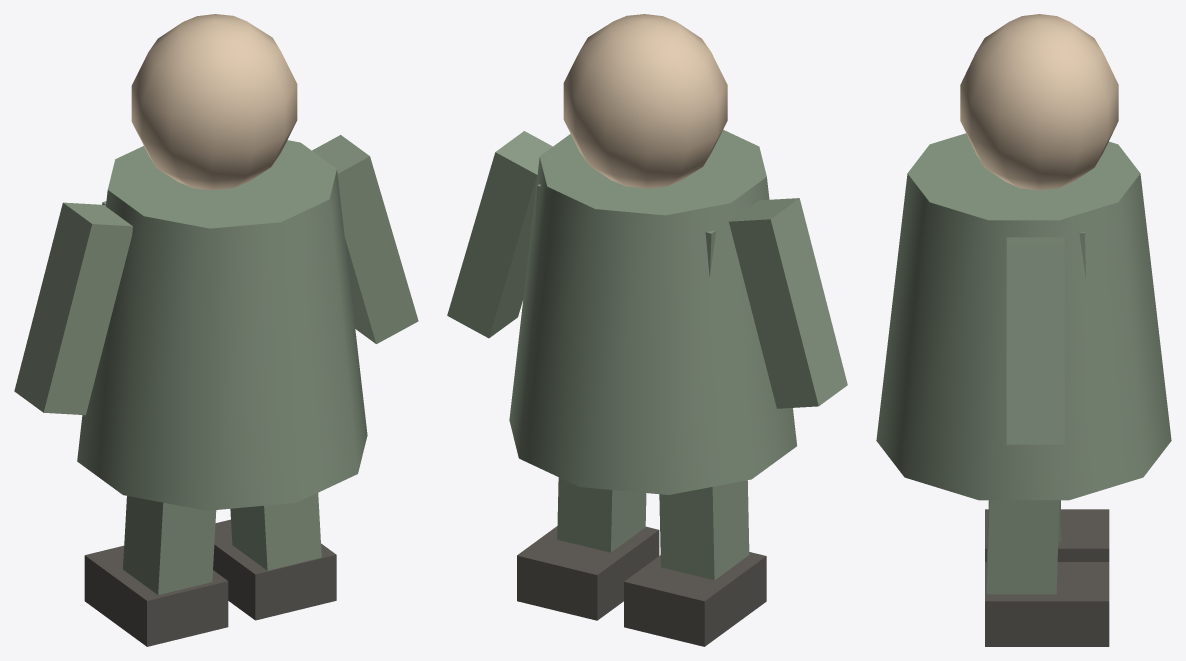
File: npc_klim_guard.glb
3 views of the same model, side by side, from view 1: azimuth 30°, elevation 25°; view 2: azimuth 150°, elevation 25°; view 3: azimuth 270°, elevation 25° (orthographic).
Visible parts, largest first — view 1: torso, head, left_arm, right_arm, left_boot, left_leg, right_boot, right_leg; view 2: torso, head, left_arm, right_arm, left_boot, right_boot, left_leg, right_leg; view 3: torso, head, right_arm, right_boot, right_leg, left_boot.
Boxes of the visible parts, x1=… form: torso: x1=77, y1=140, x2=367, y2=510; head: x1=131, y1=14, x2=297, y2=190; left_arm: x1=14, y1=202, x2=132, y2=415; right_arm: x1=312, y1=135, x2=418, y2=343; left_boot: x1=84, y1=545, x2=228, y2=646; left_leg: x1=123, y1=496, x2=216, y2=594; right_boot: x1=213, y1=519, x2=336, y2=620; right_leg: x1=230, y1=493, x2=321, y2=570; torso: x1=509, y1=129, x2=796, y2=494; head: x1=563, y1=14, x2=727, y2=188; left_arm: x1=729, y1=198, x2=847, y2=408; right_arm: x1=447, y1=131, x2=552, y2=338; left_boot: x1=624, y1=552, x2=766, y2=646; right_boot: x1=517, y1=526, x2=659, y2=620; left_leg: x1=659, y1=480, x2=749, y2=580; right_leg: x1=557, y1=477, x2=646, y2=552; torso: x1=876, y1=133, x2=1171, y2=500; head: x1=960, y1=14, x2=1118, y2=190; right_arm: x1=1006, y1=237, x2=1064, y2=444; right_boot: x1=985, y1=562, x2=1109, y2=646; right_leg: x1=986, y1=500, x2=1059, y2=594; left_boot: x1=985, y1=509, x2=1109, y2=561.
Bounding box in the file's own units: 1.11 × 1.65 × 0.76.
